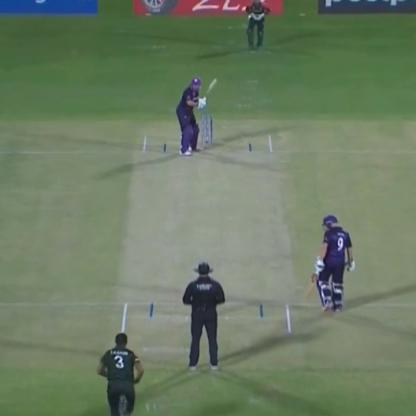bat: (301, 270, 320, 308), (204, 73, 220, 106)
pitch: (103, 131, 301, 342)
